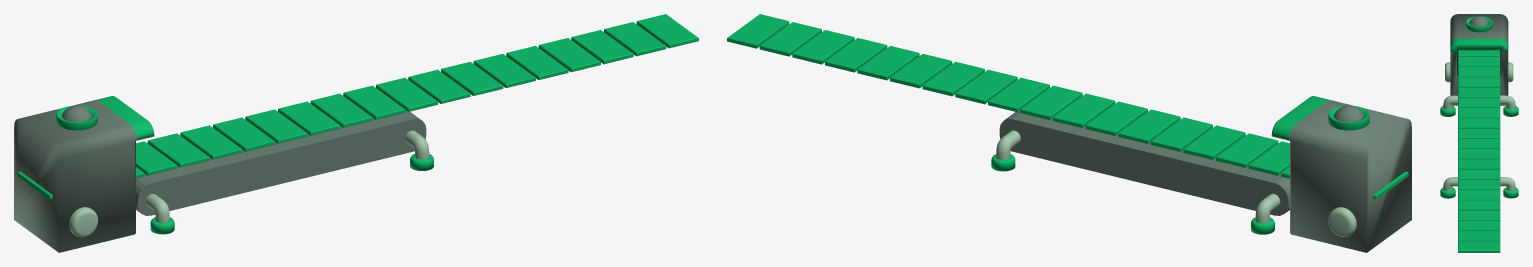
The model's file is esteiraAnimada.fbx.
3 views of the same model, side by side, from view 1: azimuth 30°, elevation 25°; view 2: azimuth 150°, elevation 25°; view 3: azimuth 270°, elevation 25° (orthographic). The views are drawn at different scales.
Parts seen in each view (by area): view 1: esteira, caixa, suporteEsteira, pes, botãoDeBaixo, botãoDeCima, Sphere; view 2: esteira, caixa, suporteEsteira, pes, botãoDeBaixo, botãoDeCima, Sphere; view 3: esteira, caixa, pes, botãoDeBaixo, botãoDeCima, Sphere.
Part boxes in pixels (bbox=[...]): esteira: bbox=[17, 14, 698, 199]; caixa: bbox=[14, 96, 154, 252]; suporteEsteira: bbox=[136, 110, 426, 215]; pes: bbox=[145, 130, 433, 234]; botãoDeBaixo: bbox=[69, 207, 98, 237]; botãoDeCima: bbox=[56, 105, 97, 130]; Sphere: bbox=[62, 105, 91, 122]; esteira: bbox=[727, 14, 1408, 199]; caixa: bbox=[1271, 96, 1411, 252]; suporteEsteira: bbox=[999, 110, 1289, 215]; pes: bbox=[991, 130, 1280, 234]; botãoDeBaixo: bbox=[1328, 207, 1356, 237]; botãoDeCima: bbox=[1328, 105, 1369, 130]; Sphere: bbox=[1334, 105, 1363, 122]; esteira: bbox=[1458, 50, 1500, 252]; caixa: bbox=[1450, 14, 1508, 105]; pes: bbox=[1440, 95, 1518, 198]; botãoDeBaixo: bbox=[1445, 62, 1513, 82]; botãoDeCima: bbox=[1466, 16, 1492, 32]; Sphere: bbox=[1469, 16, 1488, 26].
Size of the model in its own units: 1376 by 242 by 224.
